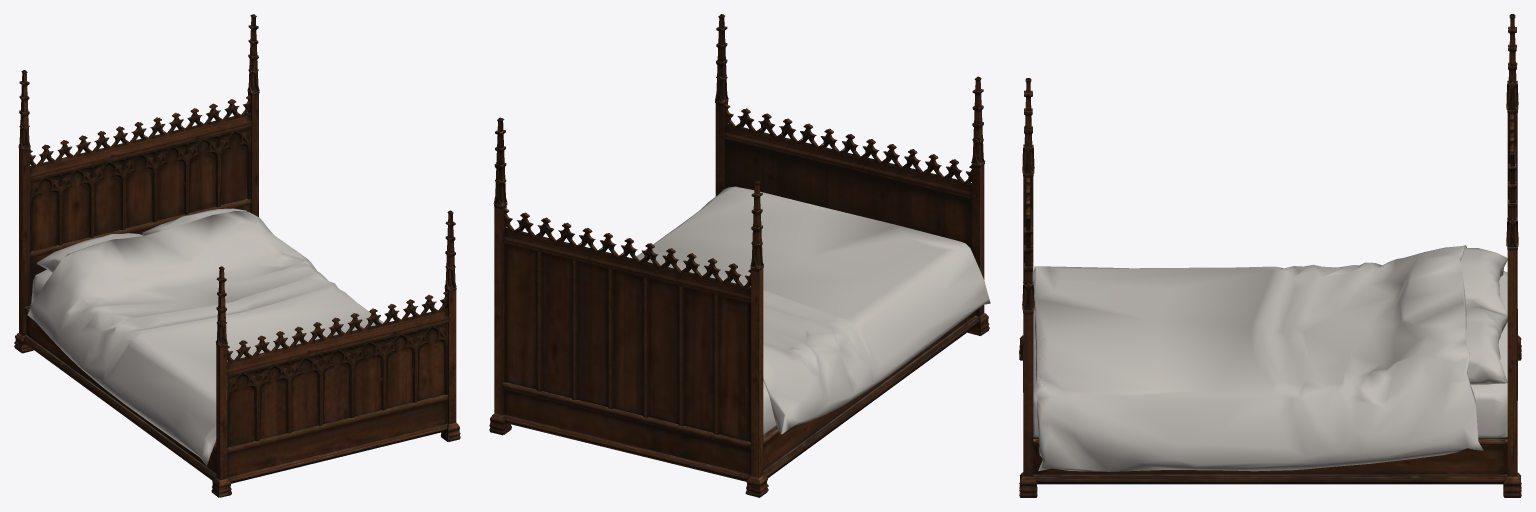
Rendered from GothicBed_01.glb.
The picture shows the model from 3 angles, left to right: view 1: azimuth 30°, elevation 25°; view 2: azimuth 150°, elevation 25°; view 3: azimuth 270°, elevation 25°; orthographic projection. The views are drawn at different scales.
Parts seen in each view (by area): view 1: c23_bedding, c19_wood, c18_wood, c22_wood, c10_wood, c16_wood, c17_wood, c13_wood, c12_wood, c08_wood, c06_wood, c09_wood (+2 smaller); view 2: c22_wood, c23_bedding, c18_wood, c19_wood, c15_wood, c14_wood, c06_wood, c09_wood, c12_wood, c13_wood; view 3: c23_bedding, c22_wood, c18_wood, c06_wood, c21_feather, c01_wood, c08_wood.
Boxes of the visible parts, bbox=[...] form: c23_bedding: bbox=[27, 208, 383, 465]; c19_wood: bbox=[30, 129, 250, 304]; c18_wood: bbox=[228, 324, 446, 447]; c22_wood: bbox=[19, 70, 456, 482]; c10_wood: bbox=[227, 394, 448, 477]; c16_wood: bbox=[227, 322, 448, 448]; c17_wood: bbox=[30, 126, 251, 252]; c13_wood: bbox=[30, 98, 251, 180]; c12_wood: bbox=[227, 295, 448, 375]; c08_wood: bbox=[211, 423, 460, 497]; c06_wood: bbox=[30, 69, 259, 257]; c09_wood: bbox=[17, 149, 29, 335]; c22_wood: bbox=[503, 14, 984, 477]; c23_bedding: bbox=[636, 186, 990, 434]; c18_wood: bbox=[725, 139, 971, 250]; c19_wood: bbox=[536, 251, 719, 434]; c15_wood: bbox=[503, 214, 763, 303]; c14_wood: bbox=[724, 109, 984, 199]; c06_wood: bbox=[493, 103, 750, 448]; c09_wood: bbox=[489, 413, 760, 497]; c12_wood: bbox=[725, 108, 971, 183]; c13_wood: bbox=[504, 212, 750, 287]; c23_bedding: bbox=[1034, 245, 1507, 471]; c22_wood: bbox=[1022, 14, 1517, 484]; c18_wood: bbox=[1033, 445, 1507, 474]; c06_wood: bbox=[1033, 217, 1518, 476]; c21_feather: bbox=[1471, 271, 1507, 438]; c01_wood: bbox=[1508, 151, 1517, 246]; c08_wood: bbox=[1019, 335, 1037, 497].
Bounding box in the file's own units: 1.49 × 1.53 × 2.04.
1 material, 1 textured.
